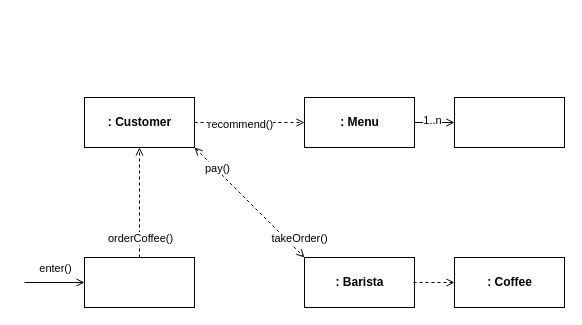
Some shapes in this 582 by 325 pixel diagram are drawn without their labels. The shapes that lost their labels are listed below. From the top down, each one's box as (x1, y1, x2, y2) in pixels, then its label:
(454, 96, 564, 148): : MenuItem
(84, 256, 194, 308): : Cafe
